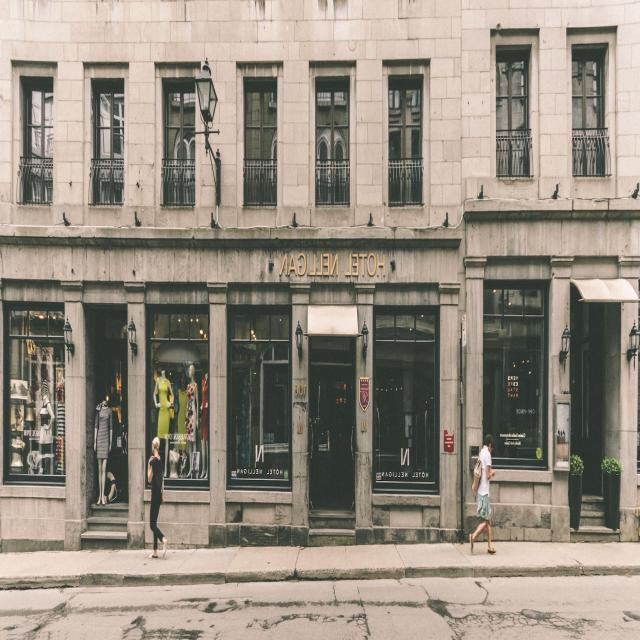adult: (470, 436, 494, 552), (151, 434, 168, 561)
